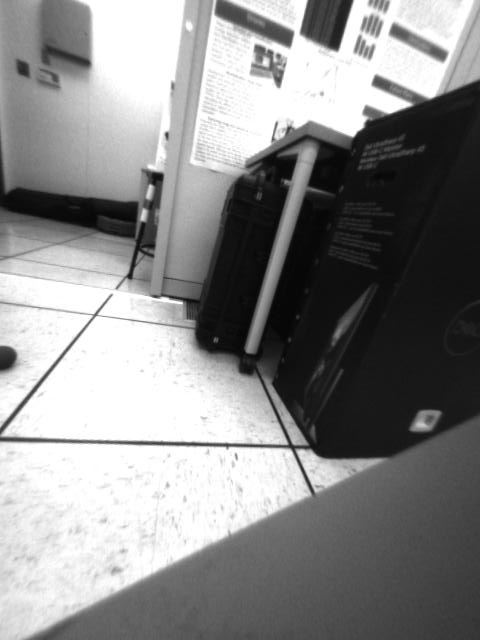dogtoy: (1, 337, 22, 380)
